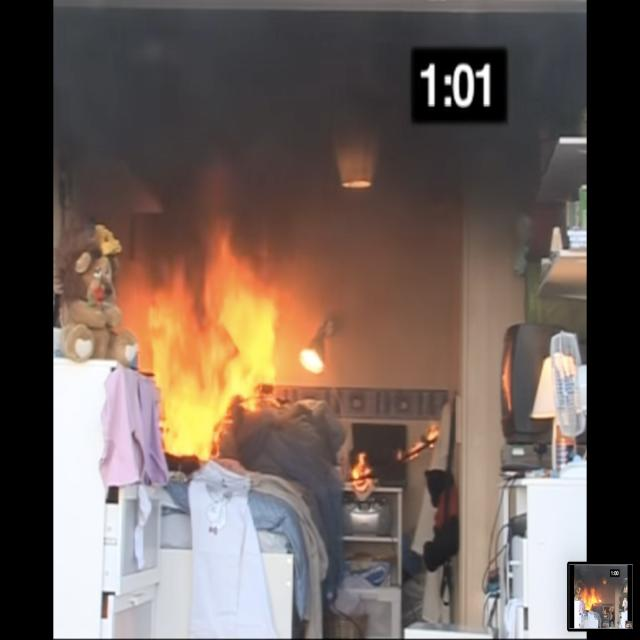Fogo: (126, 198, 453, 569)
